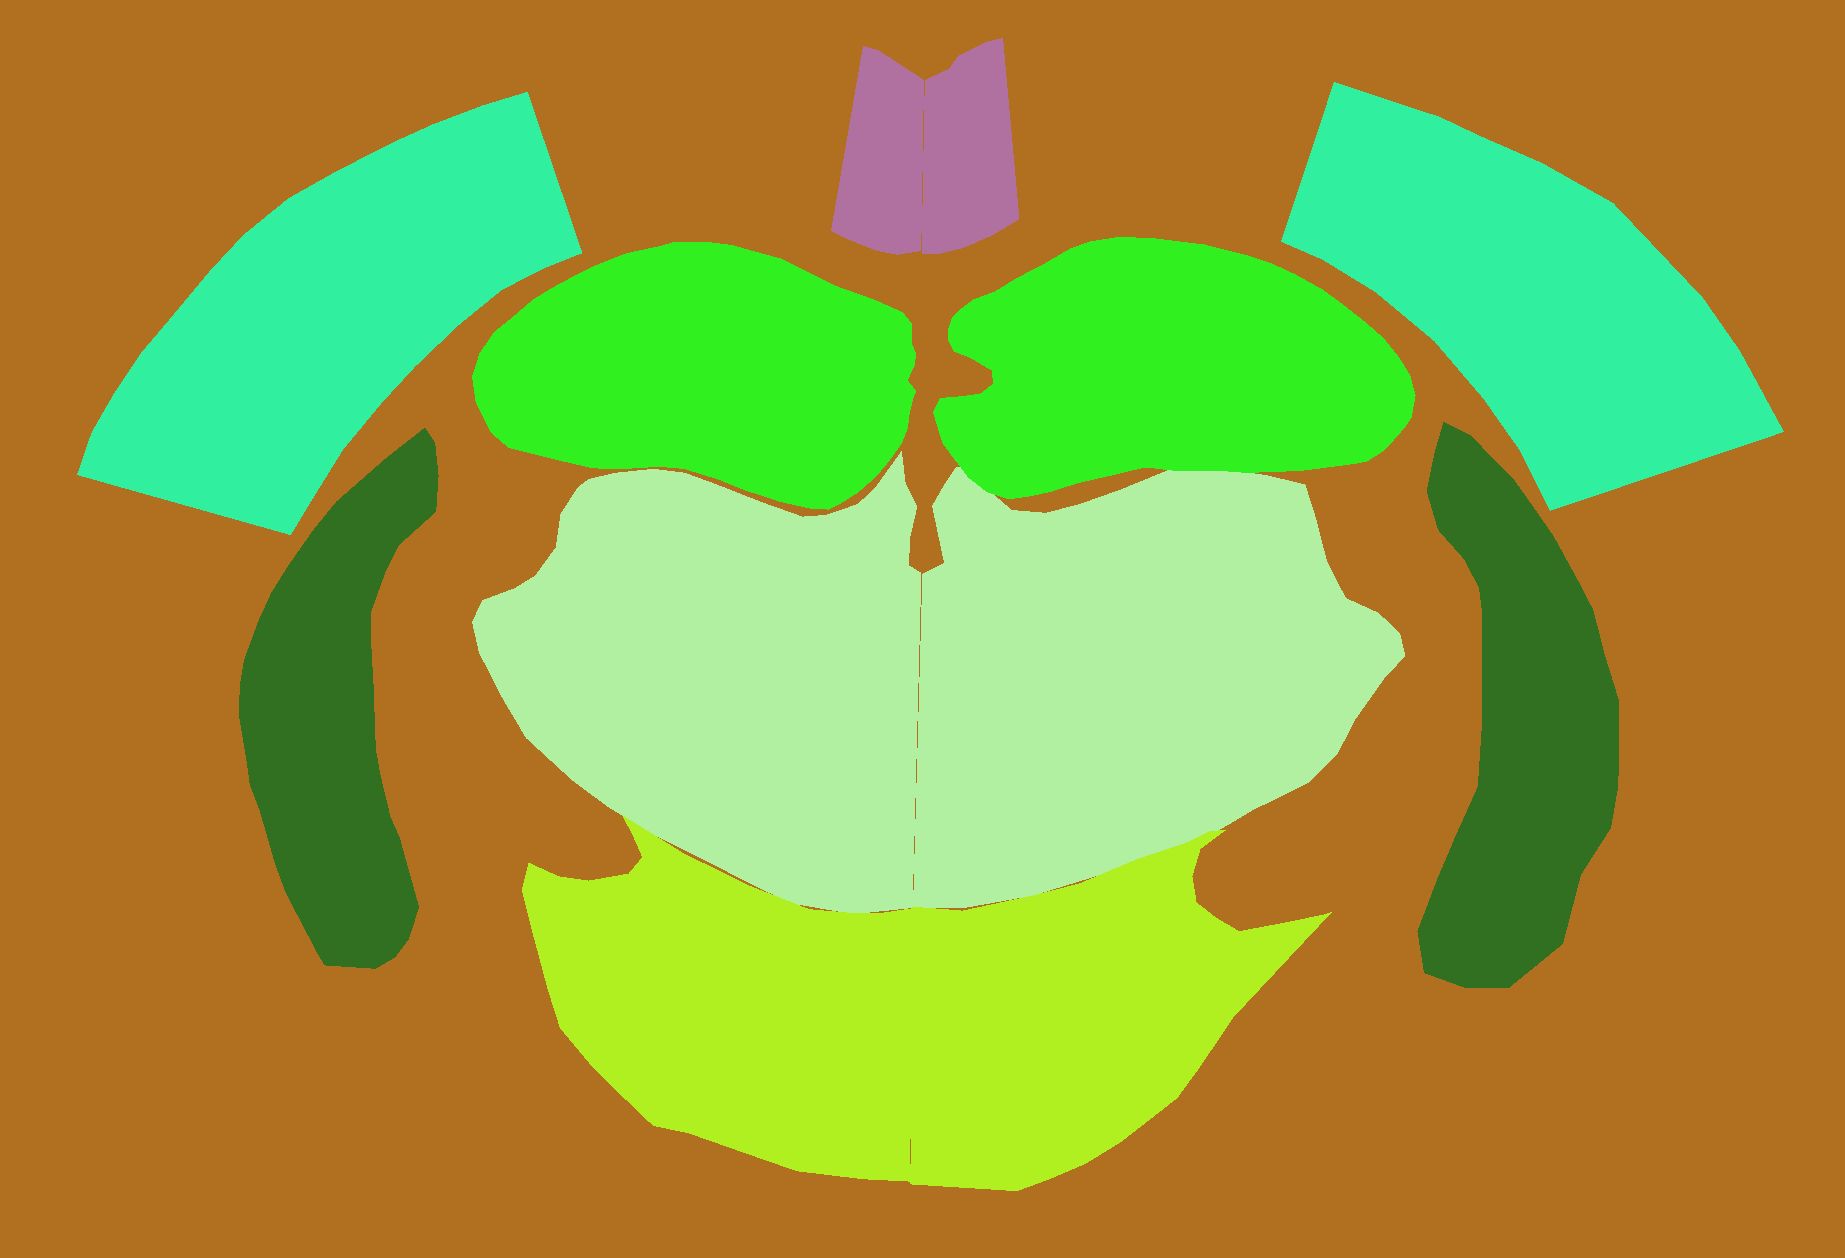Cerebral nuclei: (1417, 422, 1619, 987), (238, 428, 439, 969)
Hippocampal formation: (932, 237, 1416, 499), (472, 243, 915, 510)
Hypothalamus: (910, 830, 1332, 1191), (522, 815, 913, 1182)
Retrosplenial area: (922, 38, 1021, 254), (831, 46, 924, 255)
Somatosensory area: (77, 93, 582, 536), (1281, 81, 1783, 510)
Thalamus: (913, 467, 1405, 907), (472, 452, 921, 914)
